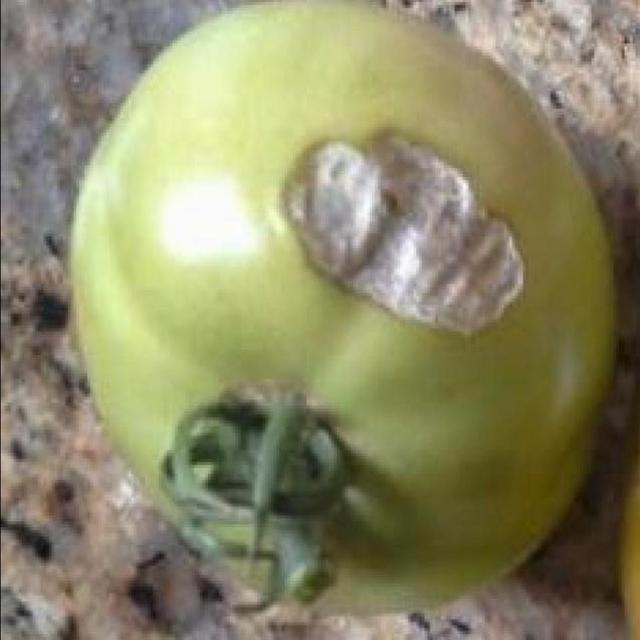Sunscald Fruit: (170, 74, 354, 219)
